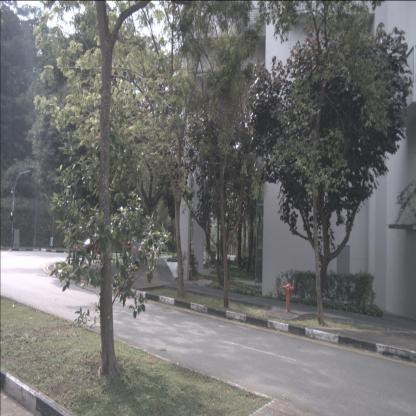vehicle-car: (74, 235, 110, 258)
